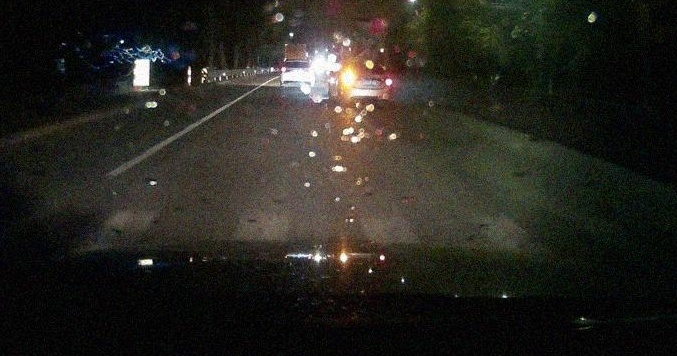L_light: (342, 71, 356, 85)
R_light: (385, 77, 392, 86)
T_light: (361, 62, 373, 64)
night-left: (341, 58, 393, 109)
